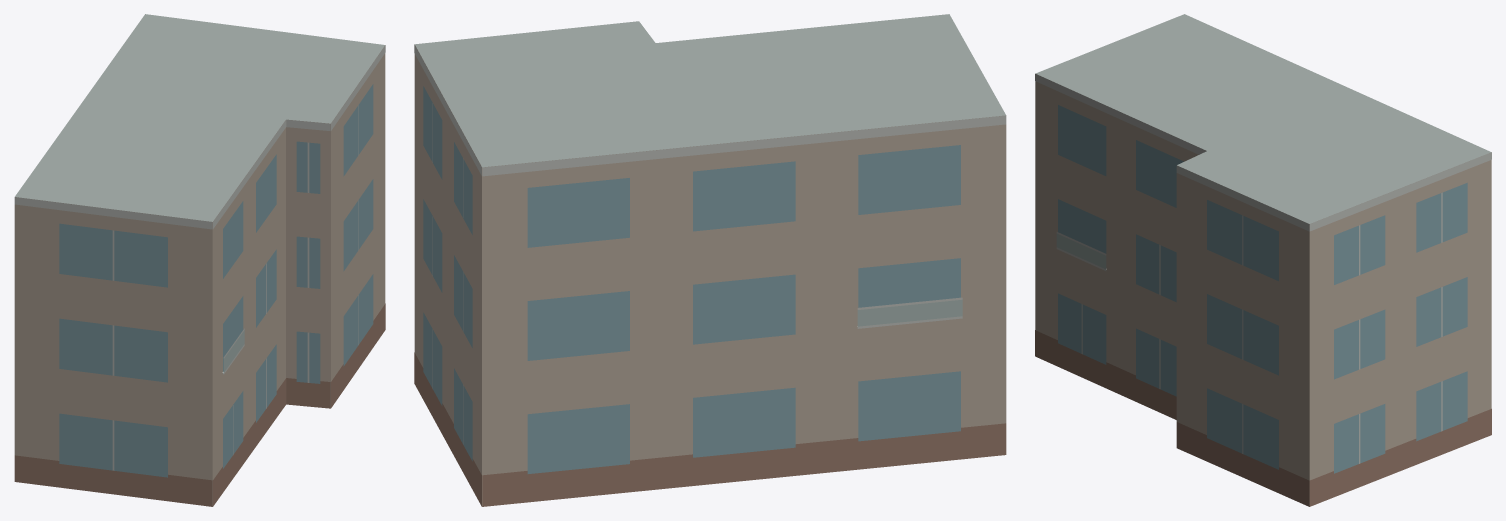
File: survey-upis-32717480.glb
3 renders of one model, left to right at view 1: azimuth 30°, elevation 25°; view 2: azimuth 150°, elevation 25°; view 3: azimuth 270°, elevation 25°, orthographic. The views are drawn at different scales.
Parts seen in each view (by area): view 1: survey-upis-32717480.tmp; view 2: survey-upis-32717480.tmp; view 3: survey-upis-32717480.tmp.
Part boxes in pixels (x1,y1,x2,y2): survey-upis-32717480.tmp: (14,14,385,506); survey-upis-32717480.tmp: (414,14,1006,506); survey-upis-32717480.tmp: (1035,14,1491,506).
Bounding box in the file's own units: 14.58 × 9.15 × 13.39.
